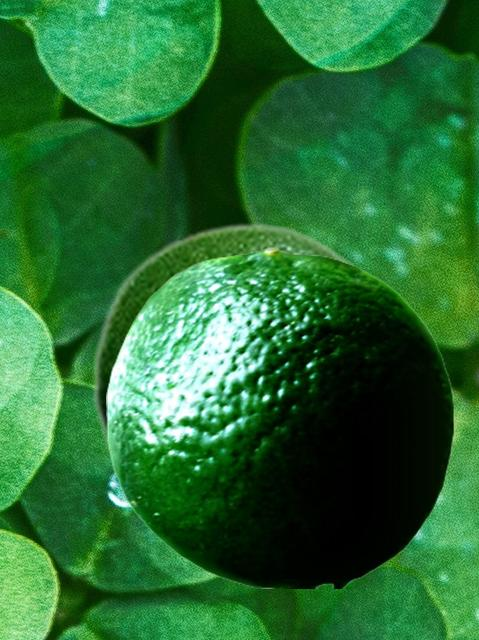calamansi: (106, 246, 453, 587), (90, 221, 363, 495)
